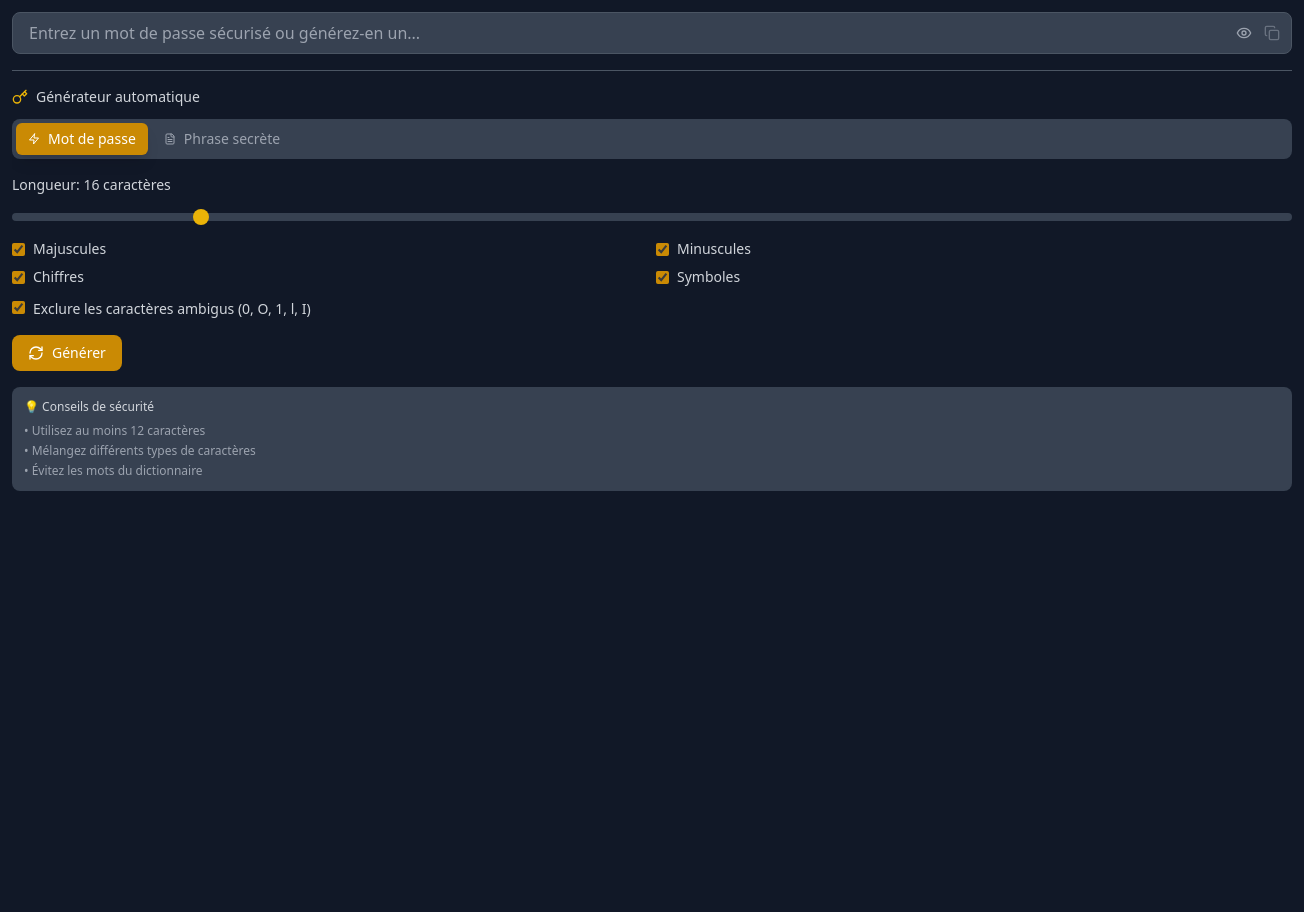
Test: PasswordGeneratorComponent › should generate password when button is clicked
Step 1. Click the button "Générer" → (67, 353), box [12,335,122,371]
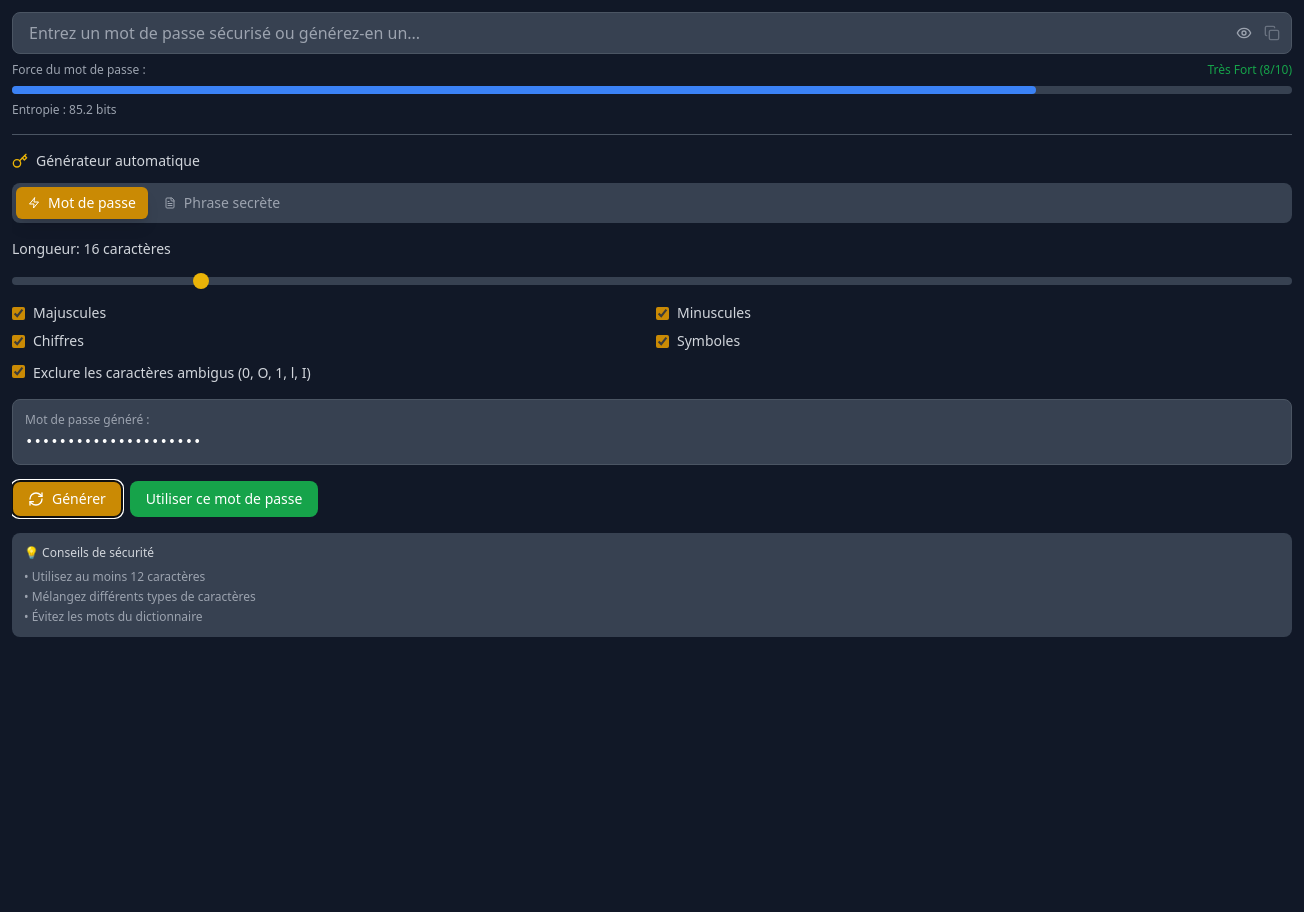
Now the button "Utiliser ce mot de passe" is shown, box [130,481,318,517]
Now the text "Mot de passe généré :" is shown, box [25,411,150,428]
